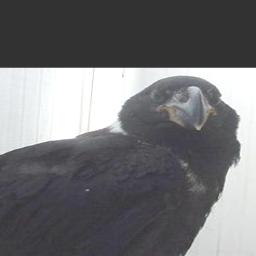Crow: (0, 74, 245, 255)
